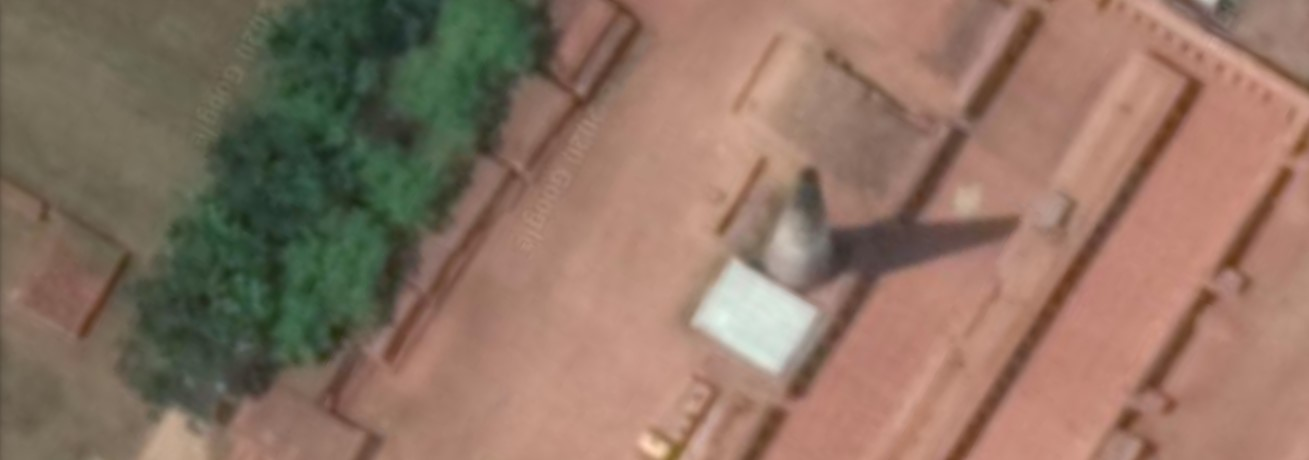kiln: (614, 19, 1145, 455)
